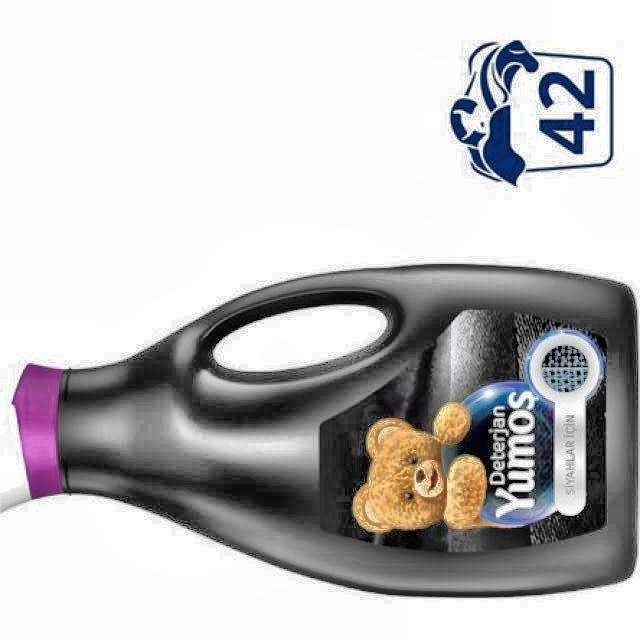plastic: (0, 265, 638, 595)
